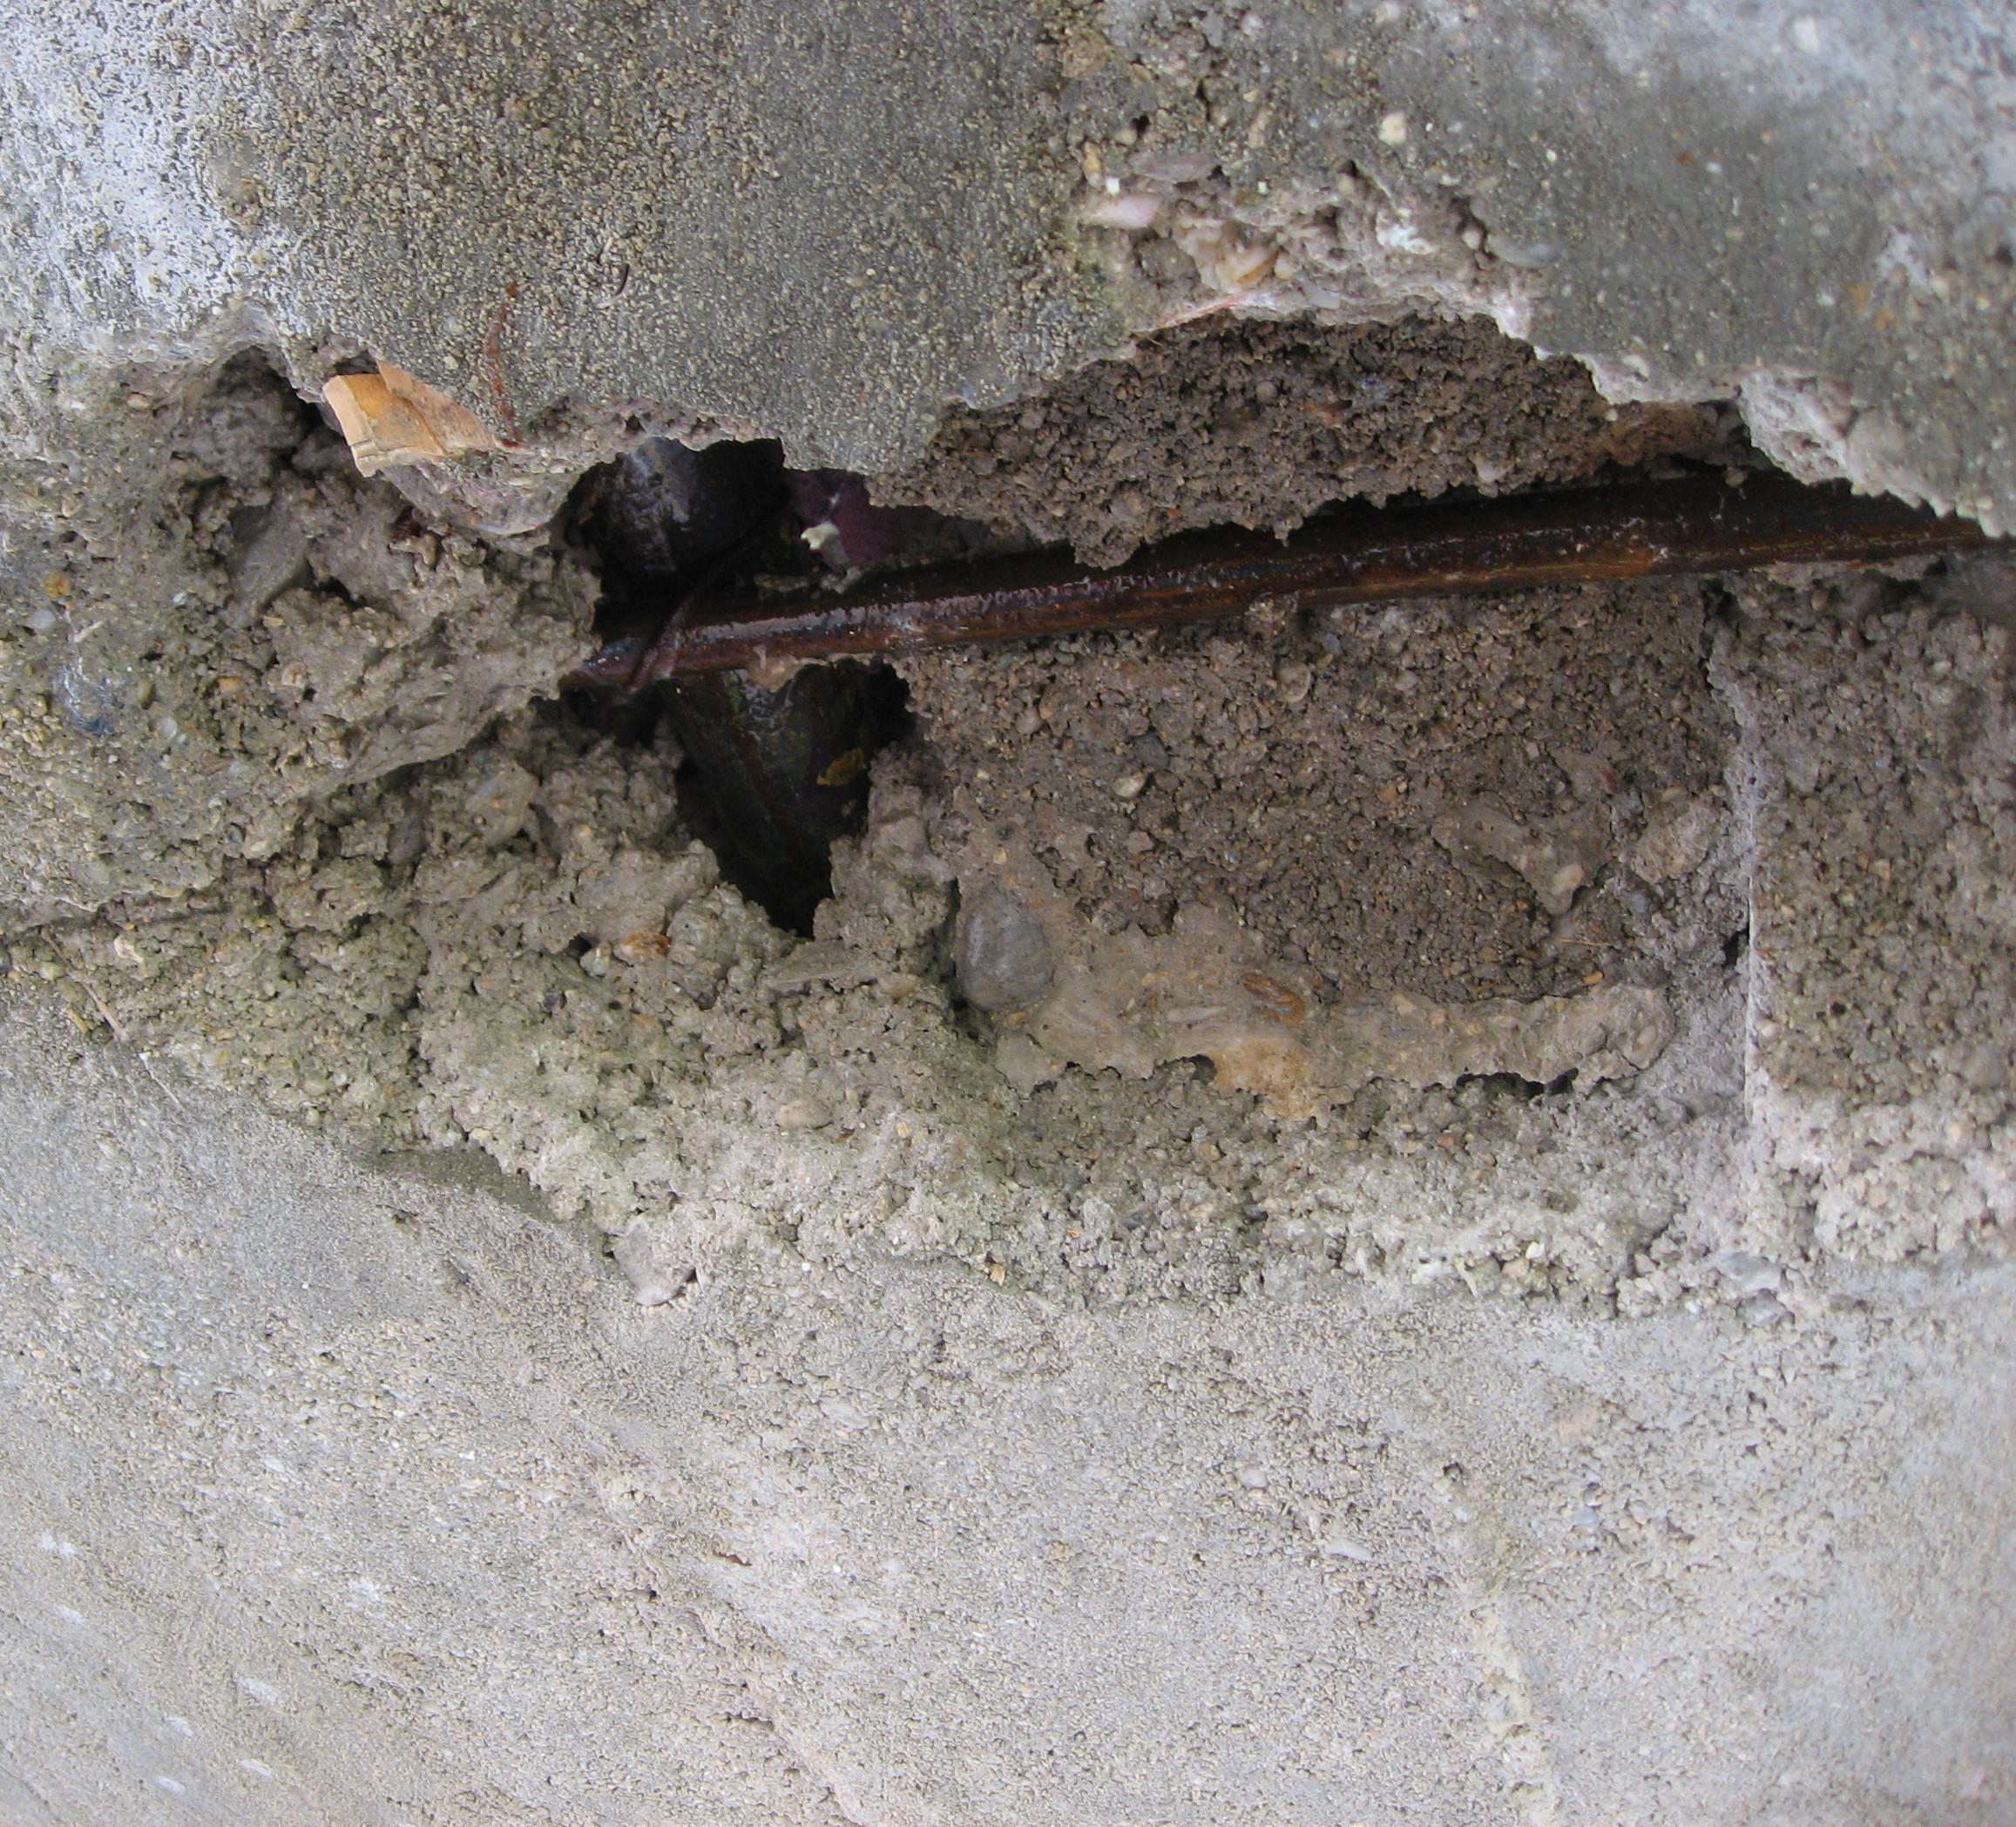Exposed reinforcement: (567, 504, 1986, 696)
Spalling: (0, 119, 2016, 1330)
